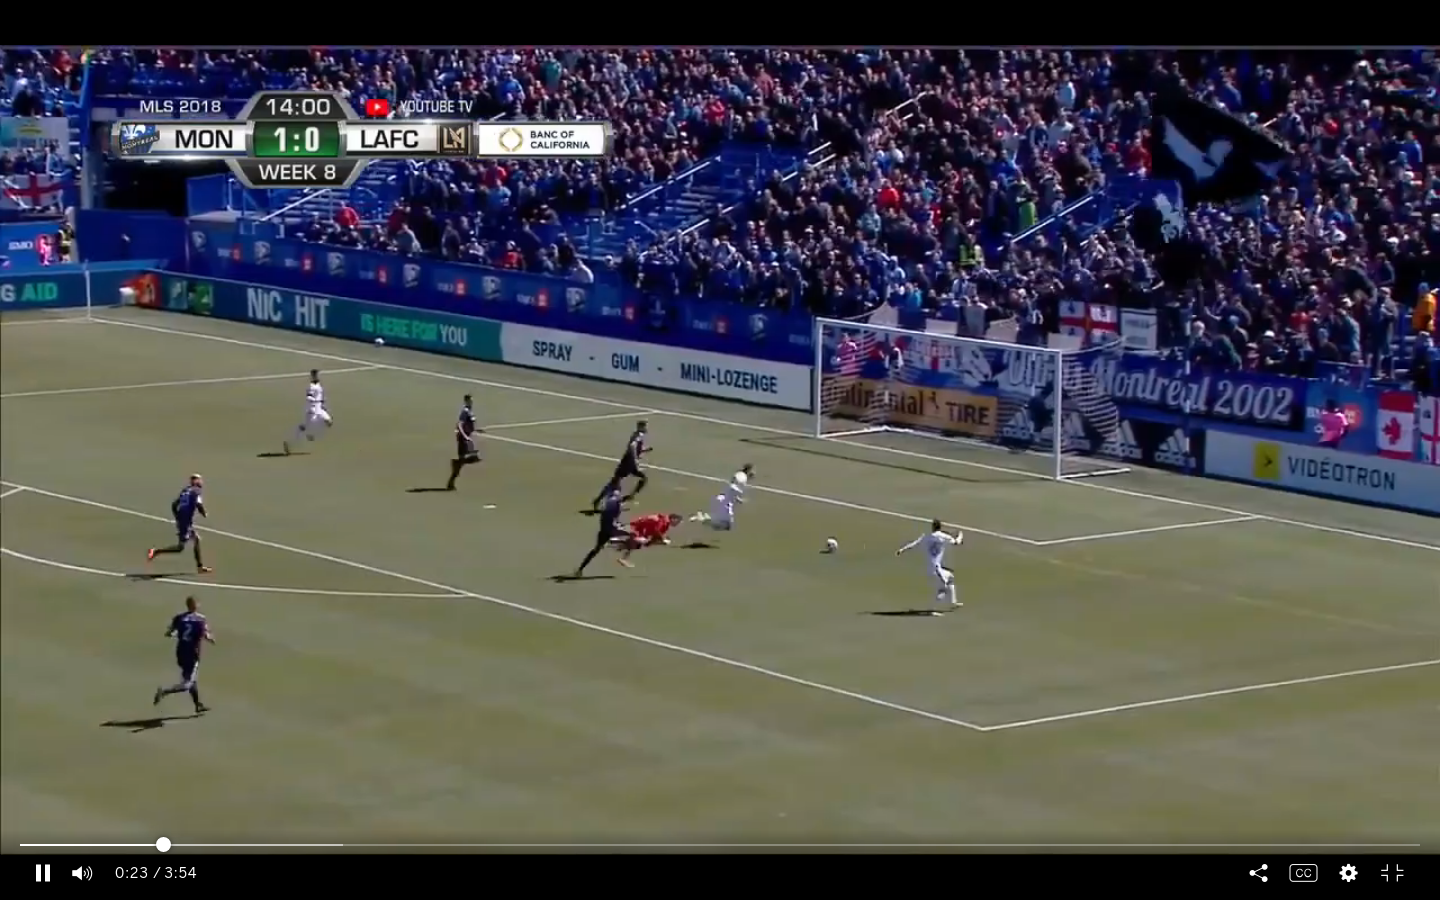soccer player: (152, 591, 219, 722), (890, 516, 973, 619), (564, 479, 641, 585), (144, 471, 213, 585), (585, 412, 658, 517), (687, 460, 765, 540), (276, 359, 335, 460), (444, 385, 484, 499), (621, 512, 692, 552)
soccerball: (822, 531, 844, 557)
